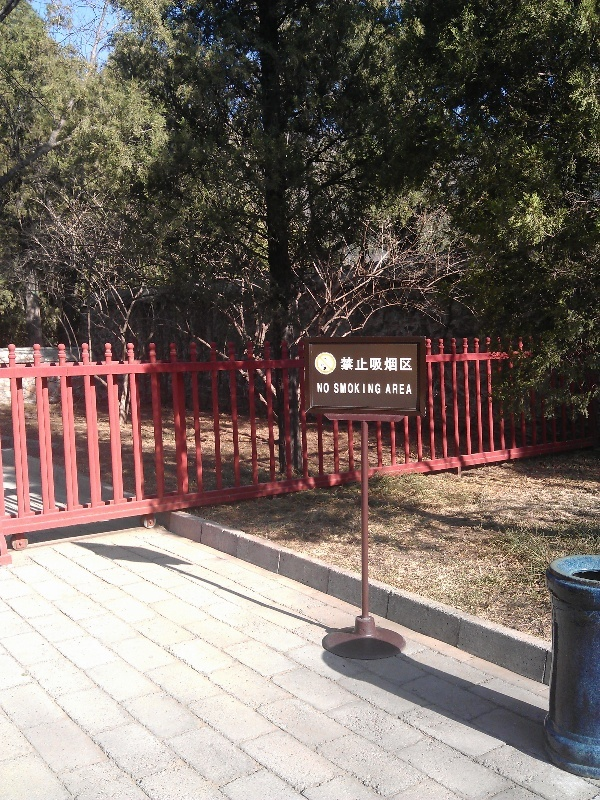text: (353, 358, 368, 372), (369, 358, 384, 372), (385, 358, 400, 372), (339, 358, 352, 372), (401, 358, 414, 372), (337, 383, 352, 395), (353, 383, 368, 395), (385, 384, 400, 395), (369, 383, 382, 395), (401, 384, 412, 395), (321, 383, 330, 394), (317, 383, 320, 394), (334, 383, 336, 395)
